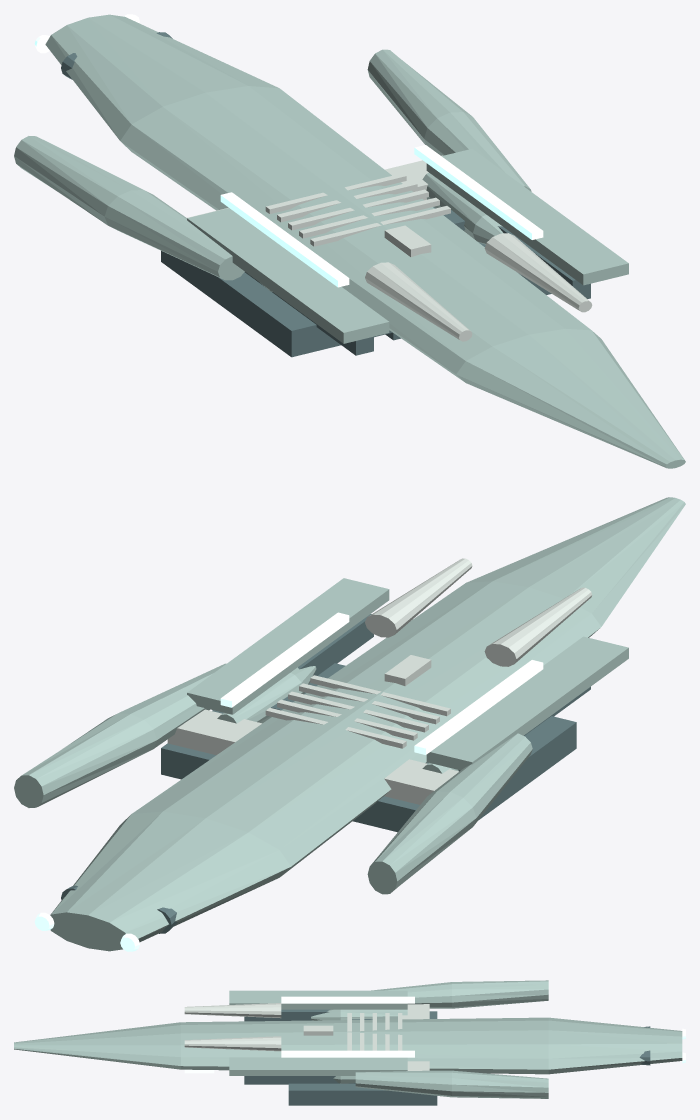
3 renders of one model, top to bottom at view 1: azimuth 30°, elevation 25°; view 2: azimuth 150°, elevation 25°; view 3: azimuth 270°, elevation 25°, orthographic. The views are drawn at different scales.
Bounding box in the file's own units: 7.66 × 1.78 × 20.45.
